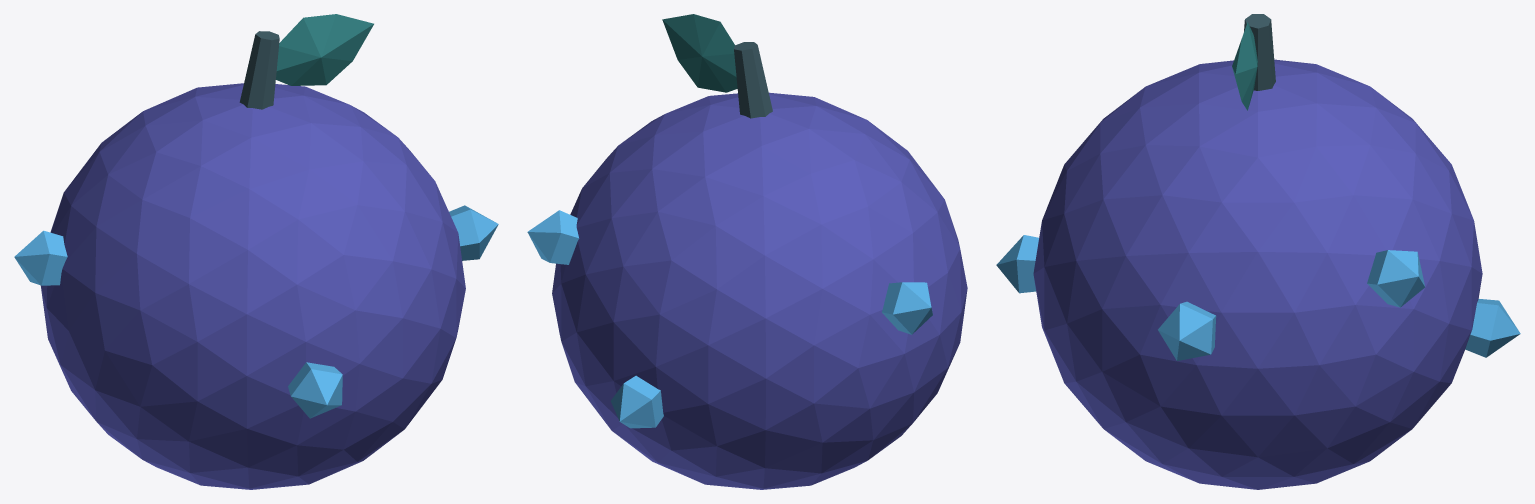
The model's file is CrystalberryFruit.glb.
3 views of the same model, side by side, from view 1: azimuth 30°, elevation 25°; view 2: azimuth 150°, elevation 25°; view 3: azimuth 270°, elevation 25° (orthographic). The views are drawn at different scales.
Visible parts, largest first — view 1: CrystalberryFruit_CrystalberryBody, CrystalberryFruit_CrystalberryCrystals, CrystalberryFruit_CrystalberryLeaf, CrystalberryFruit_CrystalberryStem; view 2: CrystalberryFruit_CrystalberryBody, CrystalberryFruit_CrystalberryCrystals, CrystalberryFruit_CrystalberryLeaf, CrystalberryFruit_CrystalberryStem; view 3: CrystalberryFruit_CrystalberryBody, CrystalberryFruit_CrystalberryCrystals, CrystalberryFruit_CrystalberryStem, CrystalberryFruit_CrystalberryLeaf.
Part boxes in pixels (x1,y1,x2,y2): CrystalberryFruit_CrystalberryBody: [40, 83, 465, 489]; CrystalberryFruit_CrystalberryCrystals: [14, 205, 498, 418]; CrystalberryFruit_CrystalberryLeaf: [276, 14, 373, 85]; CrystalberryFruit_CrystalberryStem: [239, 31, 279, 109]; CrystalberryFruit_CrystalberryBody: [552, 92, 967, 489]; CrystalberryFruit_CrystalberryCrystals: [527, 210, 932, 428]; CrystalberryFruit_CrystalberryLeaf: [662, 14, 737, 92]; CrystalberryFruit_CrystalberryStem: [734, 42, 772, 118]; CrystalberryFruit_CrystalberryBody: [1033, 59, 1482, 489]; CrystalberryFruit_CrystalberryCrystals: [996, 235, 1520, 360]; CrystalberryFruit_CrystalberryStem: [1244, 14, 1275, 90]; CrystalberryFruit_CrystalberryLeaf: [1232, 22, 1257, 110].
Bounding box in the file's own units: 1.13 × 1.16 × 1.17.
